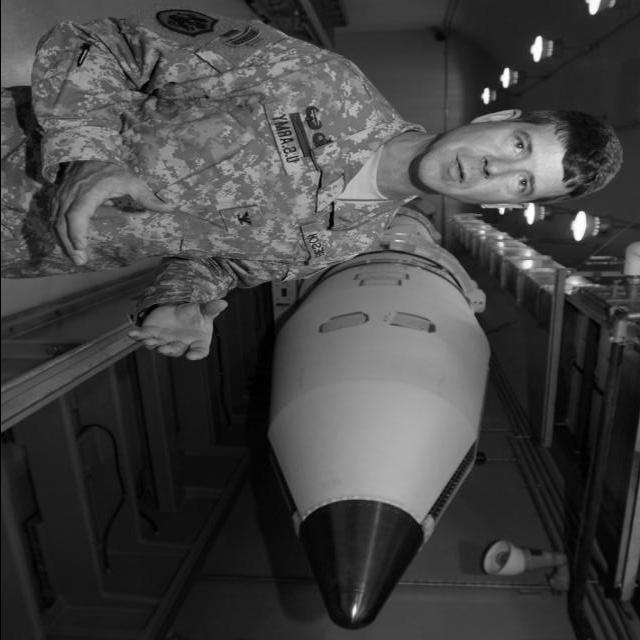missile: (270, 196, 496, 634)
